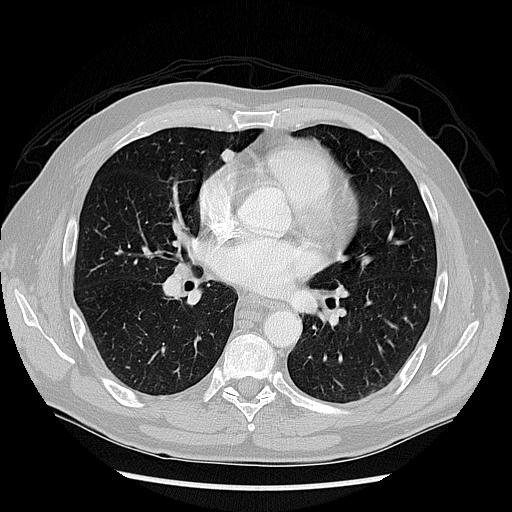nodule: (218, 147, 236, 165)
